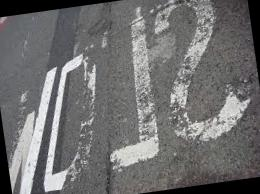faded_road_lines: (5, 0, 247, 194)
